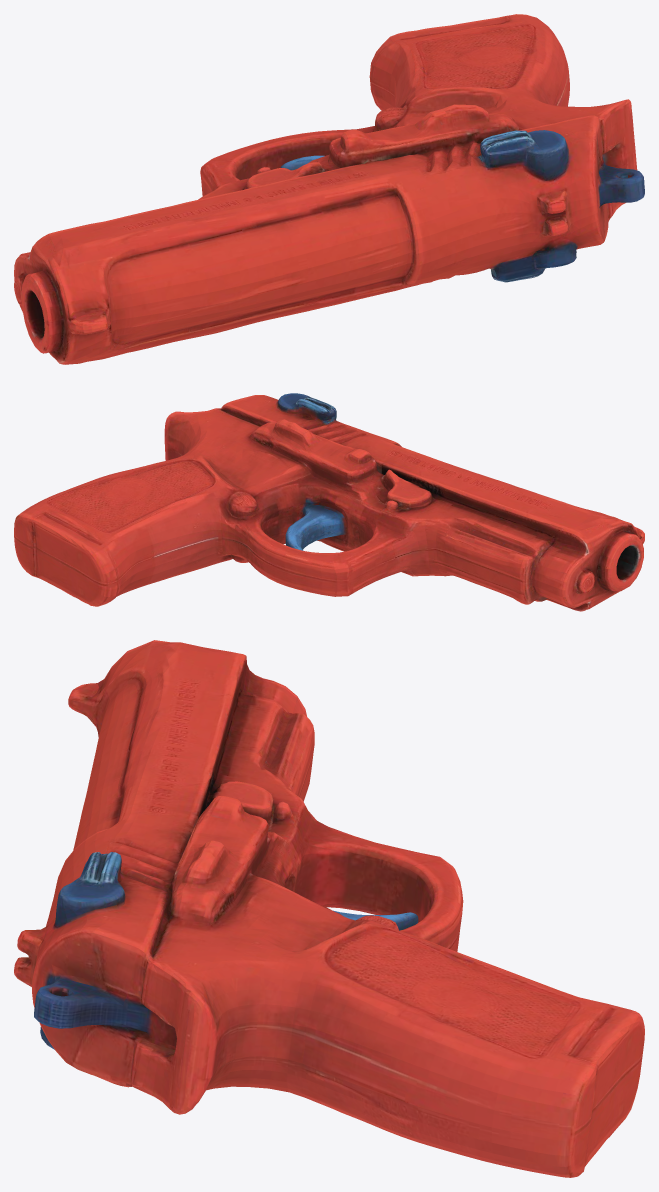
3 views of the same model, one above another, from view 1: azimuth 30°, elevation 25°; view 2: azimuth 150°, elevation 25°; view 3: azimuth 270°, elevation 25° (orthographic). The views are drawn at different scales.
Parts seen in each view (by area): view 1: n1; view 2: n1; view 3: n1.
Boxes of the visible parts, x1,y1,x2,y2 form: n1: [14, 14, 644, 364]; n1: [14, 393, 644, 611]; n1: [14, 640, 644, 1177].
Size of the model in its own units: 0.9 by 0.1988 by 0.5624.
Materials: 1 (1 with a texture image).
